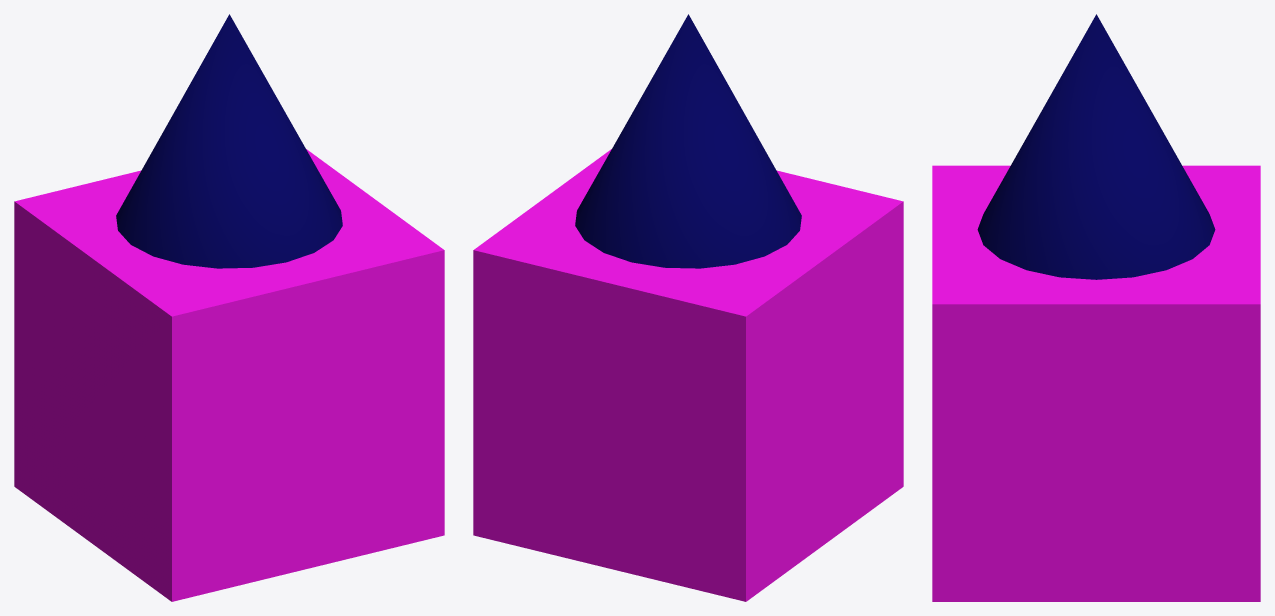
Rendered from testcombined.obj.
The picture shows the model from 3 angles, left to right: view 1: azimuth 30°, elevation 25°; view 2: azimuth 150°, elevation 25°; view 3: azimuth 270°, elevation 25°; orthographic projection. The views are drawn at different scales.
Visible parts, largest first — view 1: pCone4; view 2: pCone4; view 3: pCone4.
Part boxes in pixels (x1,y1,x2,y2): pCone4: (14,14,444,601); pCone4: (473,14,903,601); pCone4: (932,14,1260,601).
Size of the model in its own units: 2.76 by 4.81 by 2.76.
